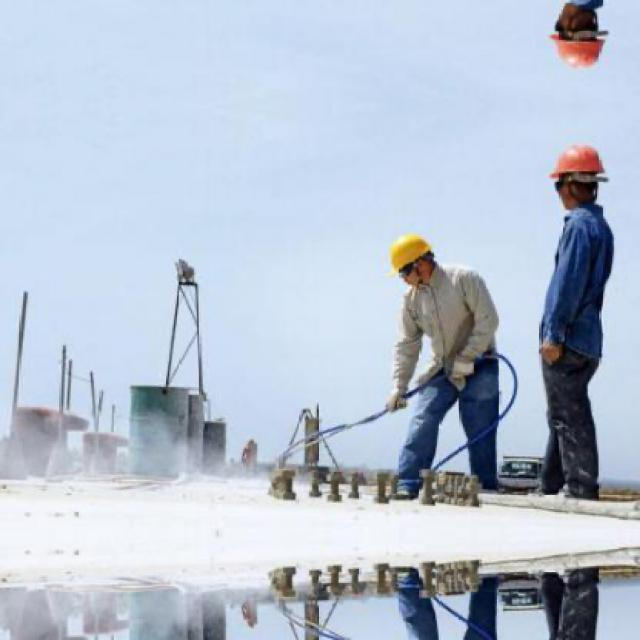helmet: (548, 137, 612, 213), (548, 2, 612, 77), (386, 227, 442, 294)
